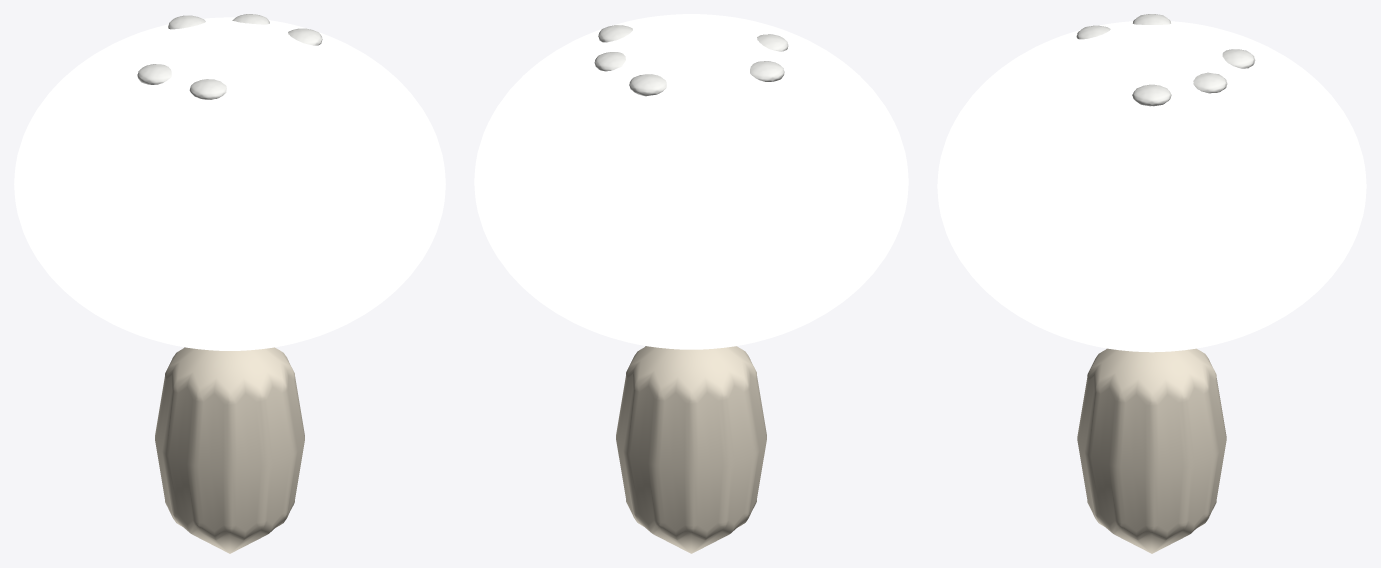
File: material_mushroom_v3.glb
3 views of the same model, side by side, from view 1: azimuth 30°, elevation 25°; view 2: azimuth 150°, elevation 25°; view 3: azimuth 270°, elevation 25° (orthographic).
Visible parts, largest first — view 1: item_mushroom_cap, item_mushroom_stem, item_mushroom_sp4, item_mushroom_sp1; view 2: item_mushroom_cap, item_mushroom_stem, item_mushroom_sp2, item_mushroom_sp1; view 3: item_mushroom_cap, item_mushroom_stem, item_mushroom_sp0, item_mushroom_sp3.
Part boxes in pixels (<box>): item_mushroom_cap: <box>14,17,445,350</box>; item_mushroom_stem: <box>155,347,304,553</box>; item_mushroom_sp4: <box>189,79,226,99</box>; item_mushroom_sp1: <box>137,64,171,84</box>; item_mushroom_cap: <box>474,14,908,349</box>; item_mushroom_stem: <box>616,346,766,553</box>; item_mushroom_sp2: <box>629,74,666,96</box>; item_mushroom_sp1: <box>750,61,784,81</box>; item_mushroom_cap: <box>937,21,1366,352</box>; item_mushroom_stem: <box>1077,348,1226,553</box>; item_mushroom_sp0: <box>1132,84,1171,106</box>; item_mushroom_sp3: <box>1193,72,1227,93</box>.
Size of the model in its own units: 0.3084 by 0.4024 by 0.3085.
